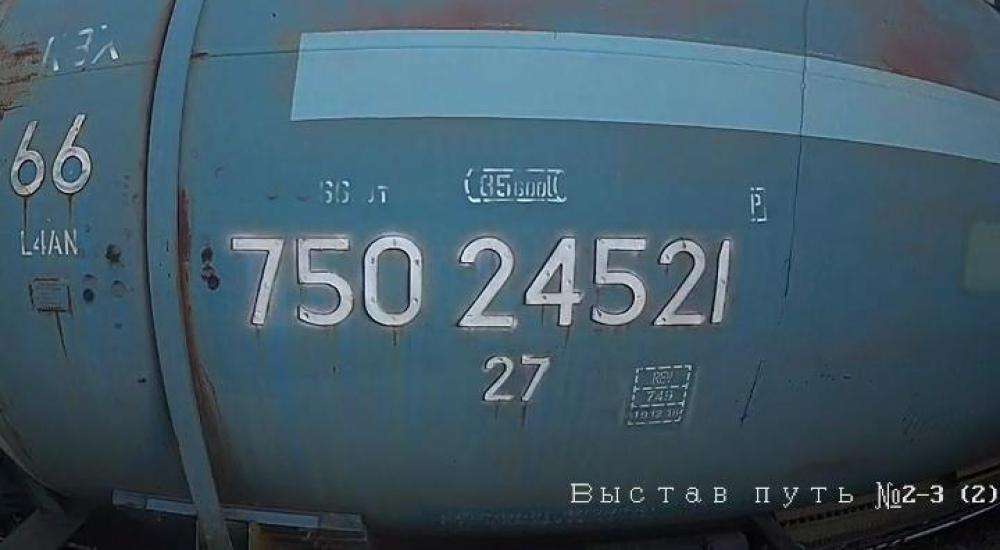Wagon-number: (224, 227, 738, 332)
